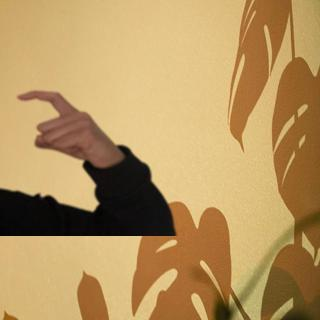WHY: (10, 82, 120, 167)
